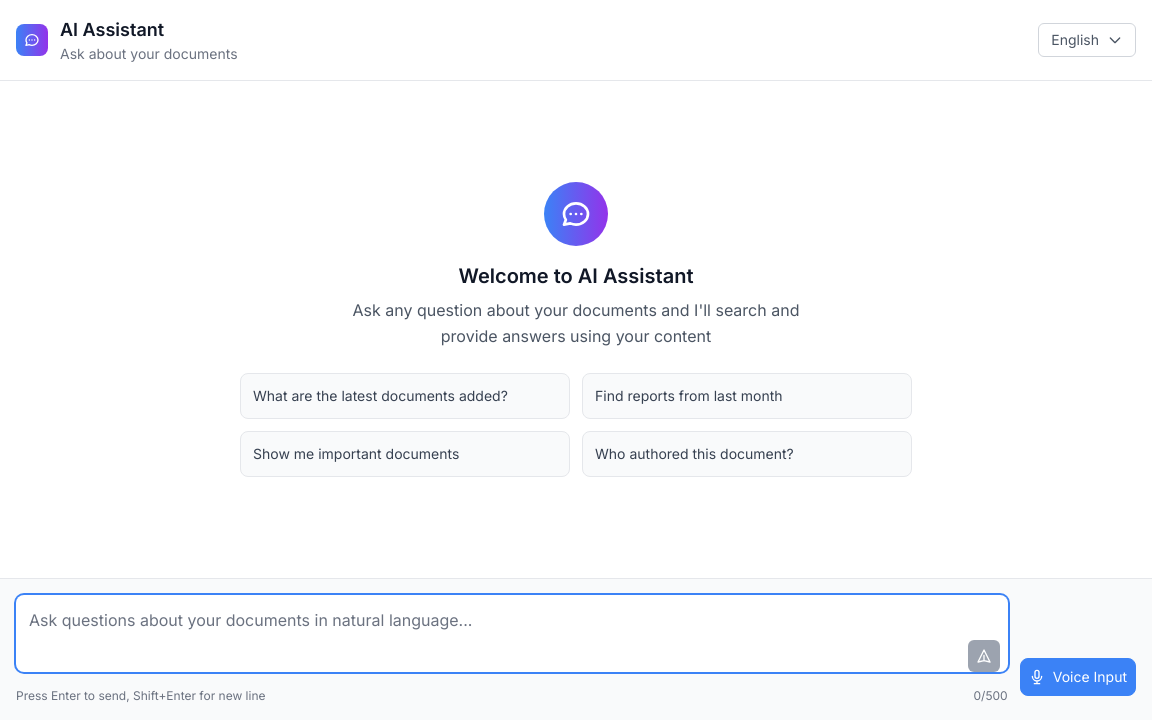
Test: NLPQueryInterface › textarea behavior › should update character count as user types
Type "Hello" into the text box with placeholder "Ask questions about your documents in natural language...".
click(512, 634); type("Hello")  # box [16, 595, 1008, 672]
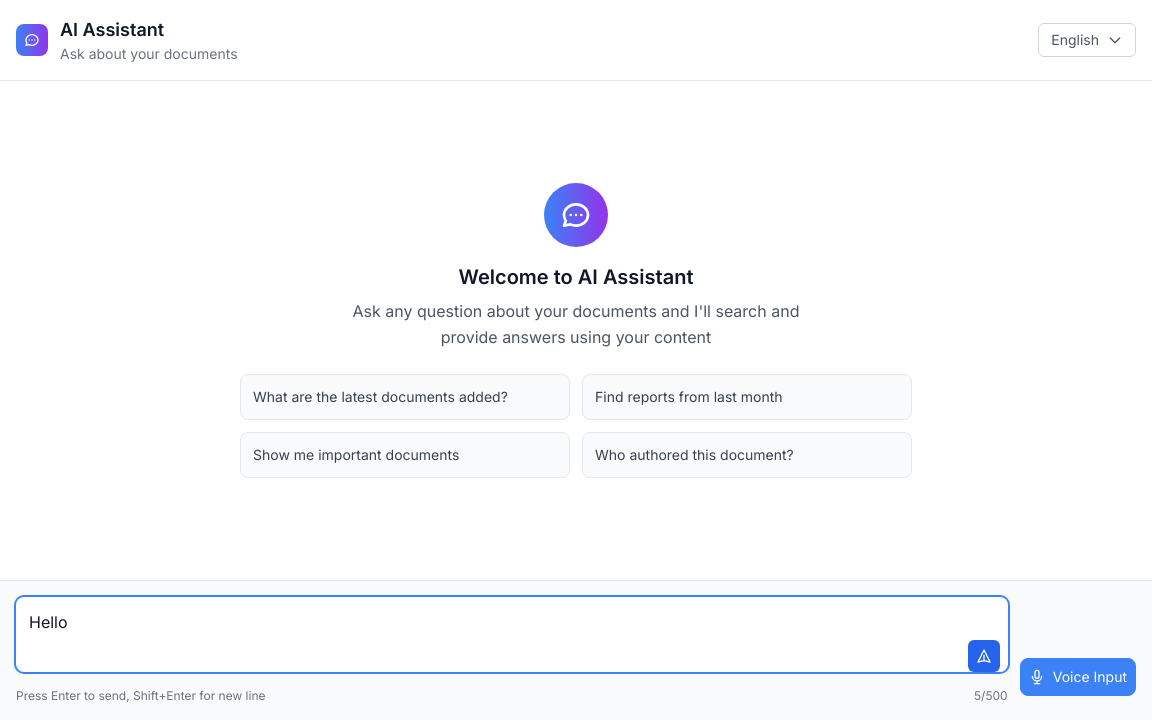
Check: the text "5/500" is shown, box [974, 688, 1008, 704]
